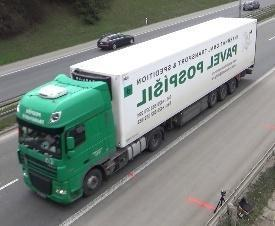car: (96, 33, 133, 50), (241, 1, 260, 11)
truck: (17, 17, 254, 205)
